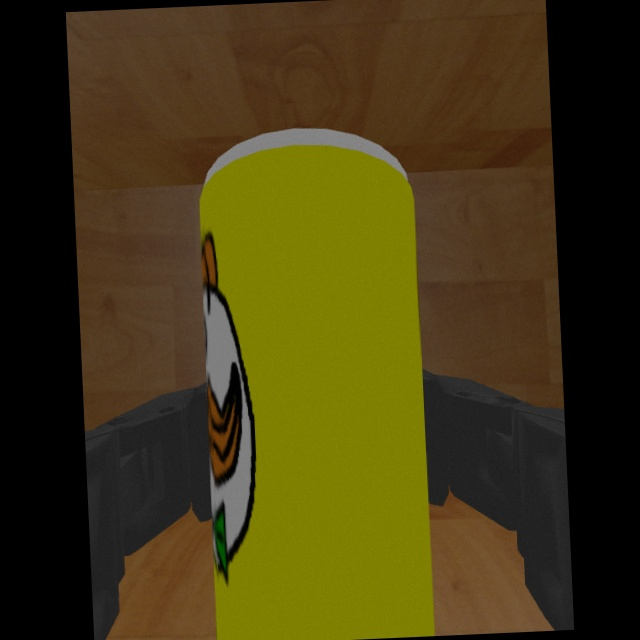chipsdose_gelb: (198, 127, 436, 640)
